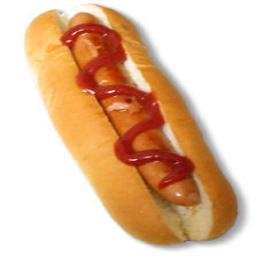hotdog: (18, 3, 252, 249)
